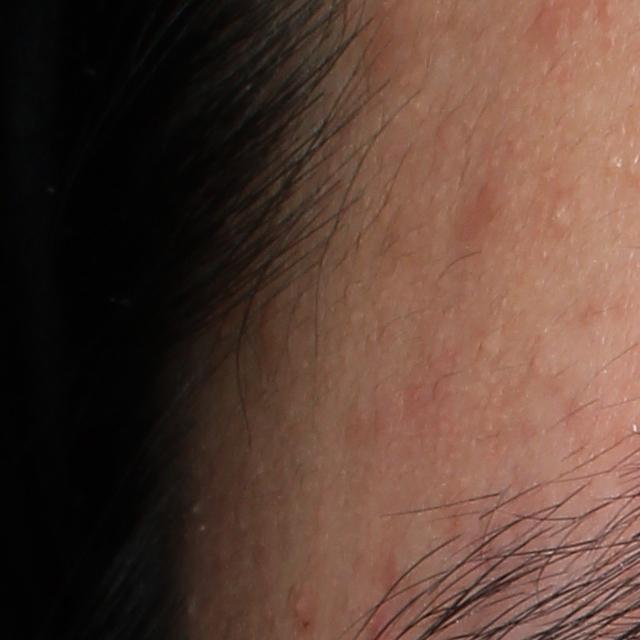comedo: (543, 196, 570, 228), (605, 154, 625, 174)
papule: (291, 594, 308, 616)
